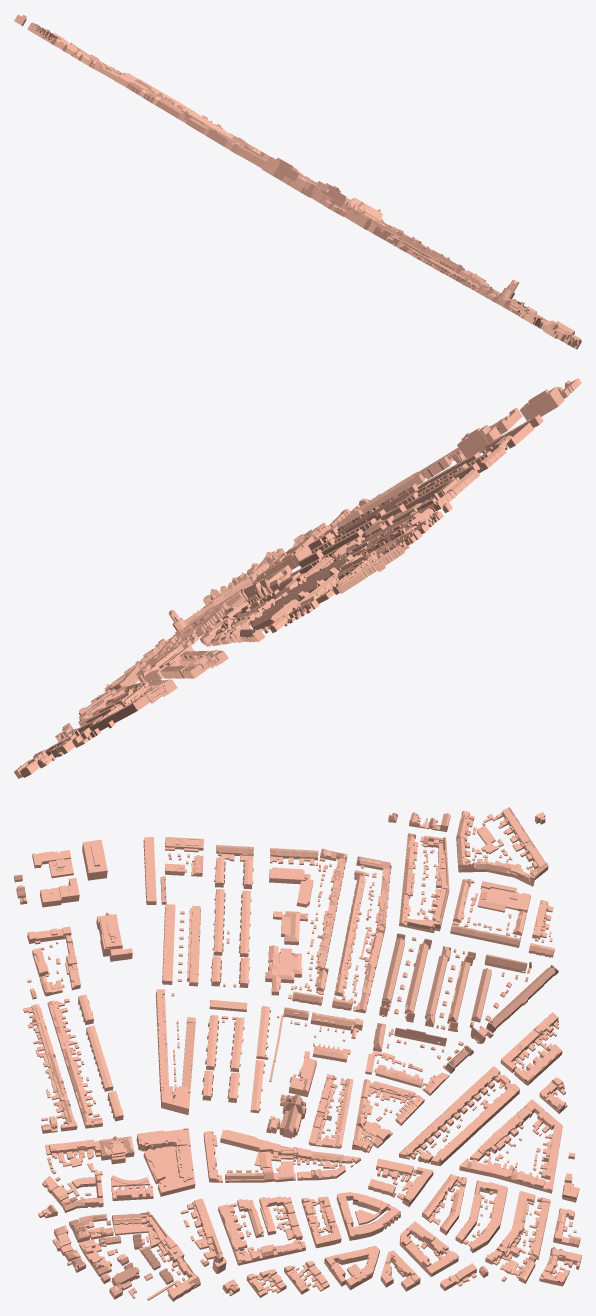
3 renders of one model, top to bottom at view 1: azimuth 30°, elevation 25°; view 2: azimuth 150°, elevation 25°; view 3: azimuth 270°, elevation 25°, orthographic. The views are drawn at different scales.
Bounding box in the file's own units: 526 × 382 × 646.
